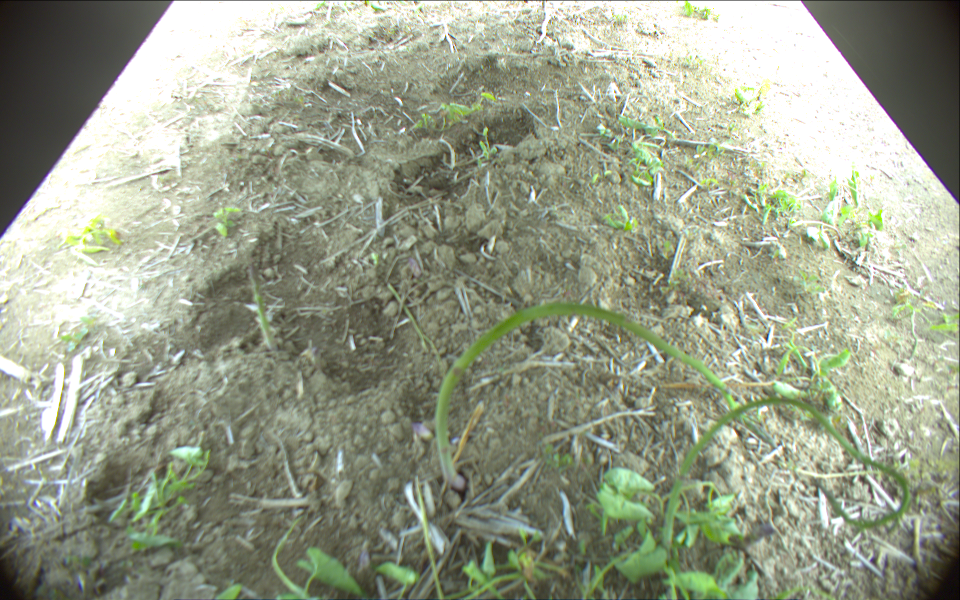aspa: (435, 301, 746, 484), (655, 395, 910, 561), (247, 263, 278, 355)
